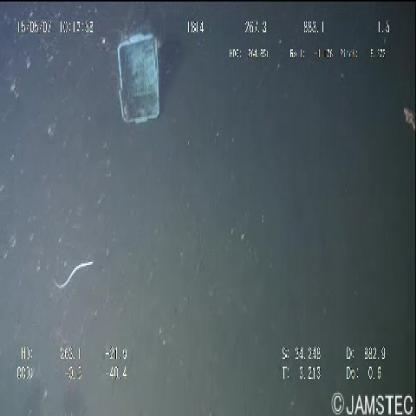Rác: (108, 23, 166, 131)
